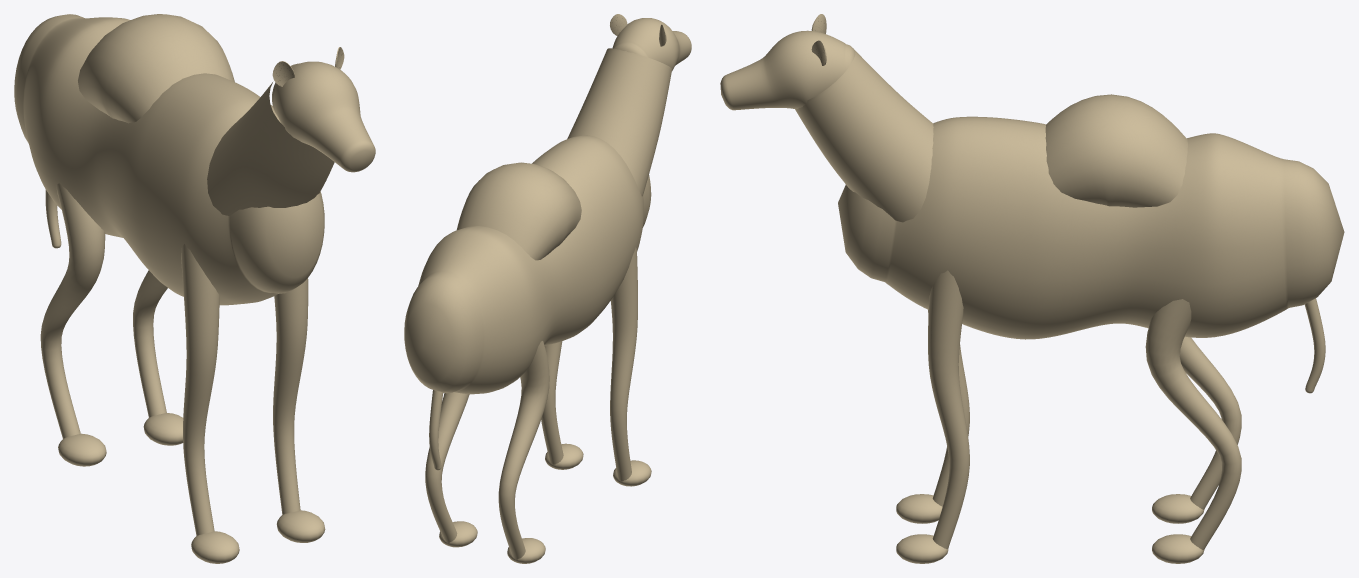
Rendered from other-dromedary-camel.glb.
3 renders of one model, left to right at view 1: azimuth 30°, elevation 25°; view 2: azimuth 150°, elevation 25°; view 3: azimuth 270°, elevation 25°, orthographic. The views are drawn at different scales.
Parts seen in each view (by area): view 1: dromedary-camel; view 2: dromedary-camel; view 3: dromedary-camel.
Part boxes in pixels (left/top/right/bottom): dromedary-camel: left=14, top=14, right=375, bottom=563; dromedary-camel: left=404, top=14, right=691, bottom=563; dromedary-camel: left=720, top=14, right=1344, bottom=563.
Size of the model in its own units: 20834 by 77466 by 85377.
Materials: 4 (1 with a texture image).
